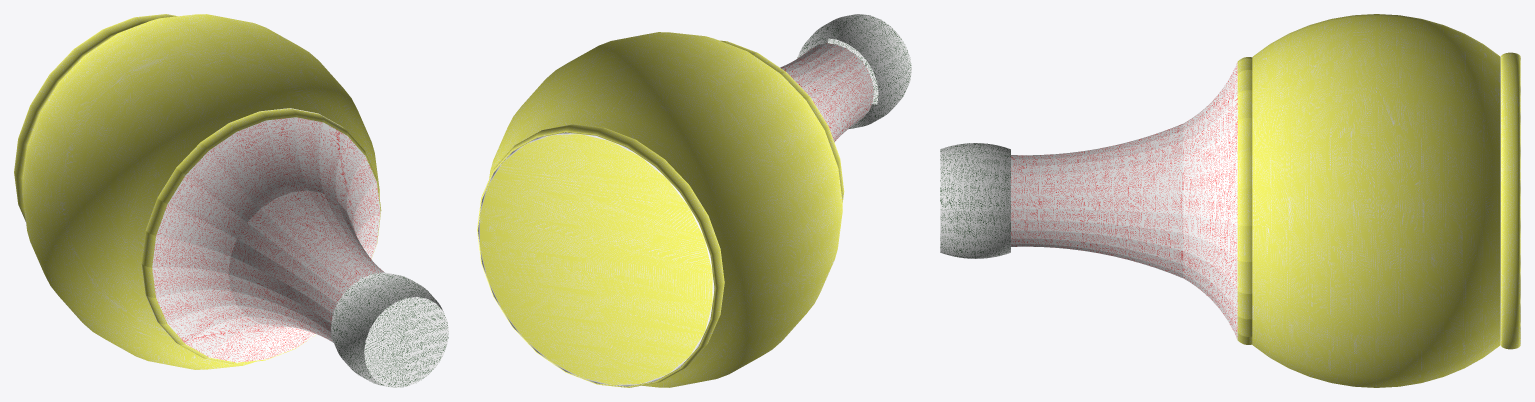
Rendered from model_align.obj.
3 views of the same model, side by side, from view 1: azimuth 30°, elevation 25°; view 2: azimuth 150°, elevation 25°; view 3: azimuth 270°, elevation 25° (orthographic). The views are drawn at different scales.
Parts seen in each view (by area): view 1: mesh2_mesh2-geometry, mesh6_mesh6-geometry, mesh1_mesh1-geometry; view 2: mesh2_mesh2-geometry, mesh1_mesh1-geometry, mesh6_mesh6-geometry; view 3: mesh2_mesh2-geometry, mesh6_mesh6-geometry, mesh1_mesh1-geometry.
Part boxes in pixels (bbox=[...]): mesh2_mesh2-geometry: bbox=[22, 14, 384, 369]; mesh6_mesh6-geometry: bbox=[331, 272, 448, 387]; mesh1_mesh1-geometry: bbox=[14, 14, 177, 221]; mesh2_mesh2-geometry: bbox=[489, 32, 873, 387]; mesh1_mesh1-geometry: bbox=[477, 124, 724, 387]; mesh6_mesh6-geometry: bbox=[797, 14, 911, 129]; mesh2_mesh2-geometry: bbox=[1011, 14, 1500, 387]; mesh6_mesh6-geometry: bbox=[940, 143, 1010, 258]; mesh1_mesh1-geometry: bbox=[1501, 52, 1520, 349].
Size of what is drawn, in the model's own units: 0.0807 by 0.0807 by 0.1247.
